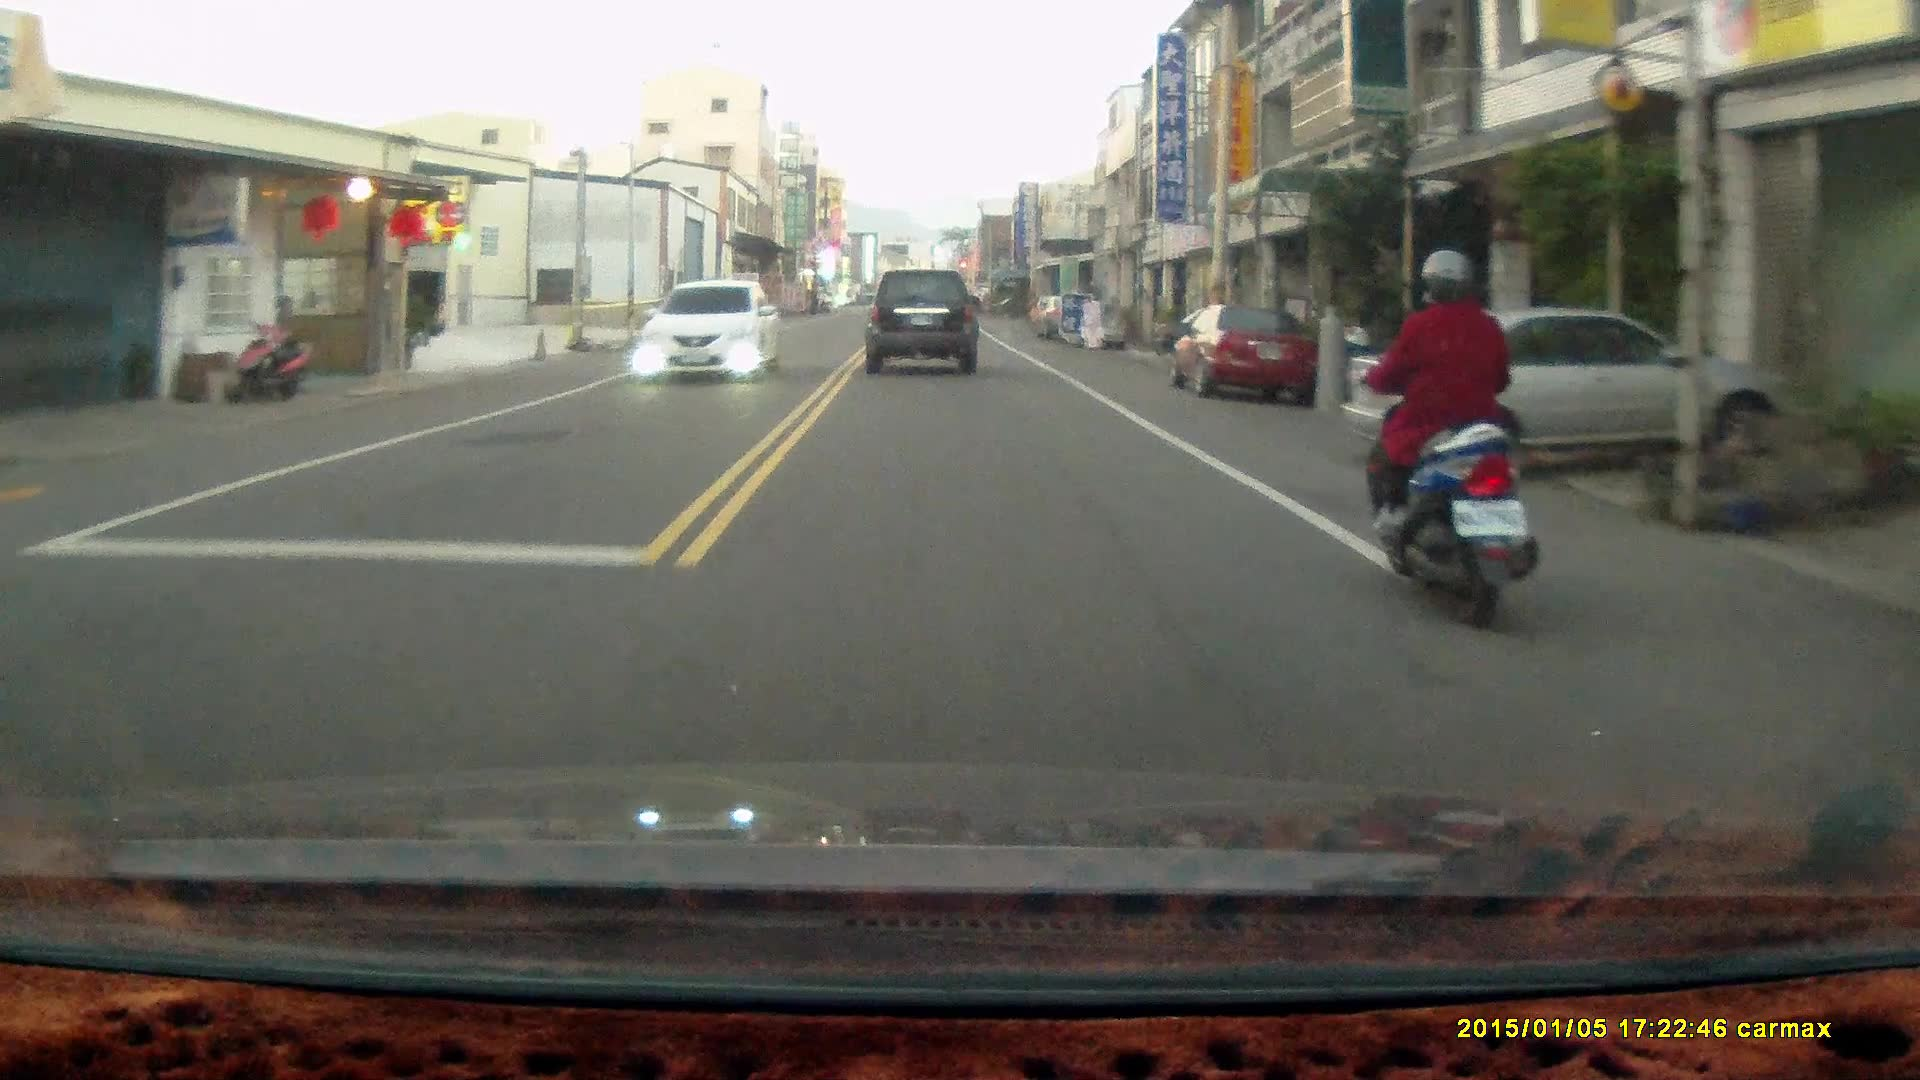rider: (1341, 240, 1538, 625)
vehicle: (1342, 304, 1803, 489), (638, 280, 784, 381), (1168, 301, 1316, 401), (864, 263, 982, 372)
